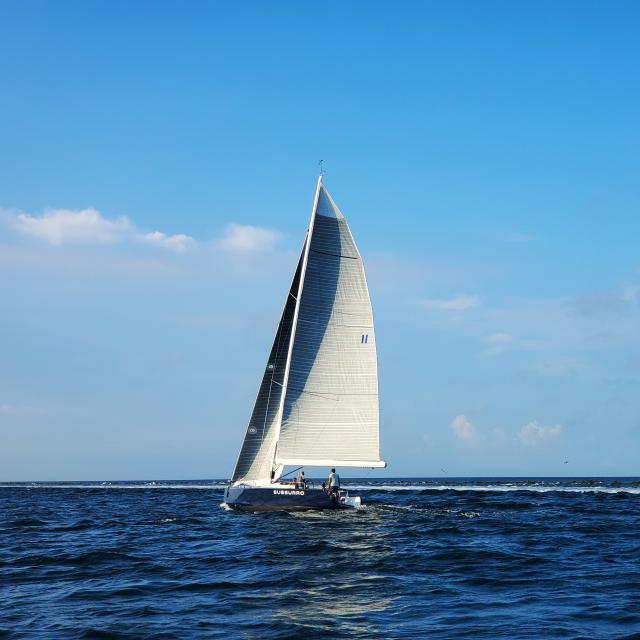boat: (218, 155, 408, 538)
